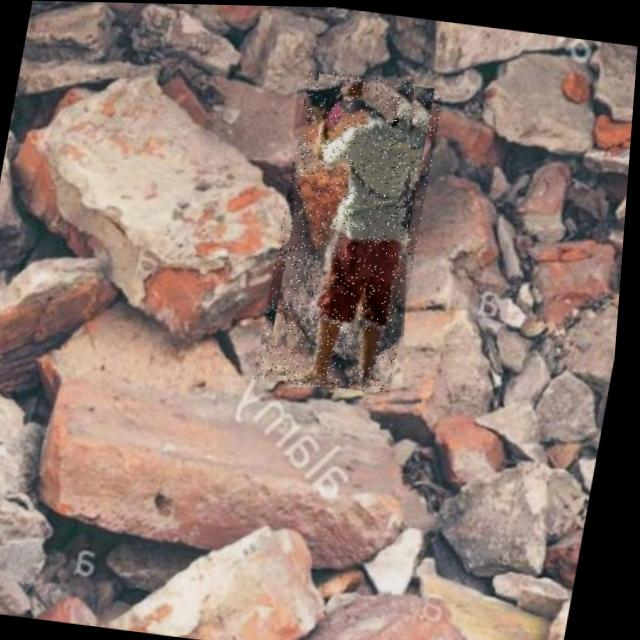Person in Rubble: (258, 67, 446, 396)
